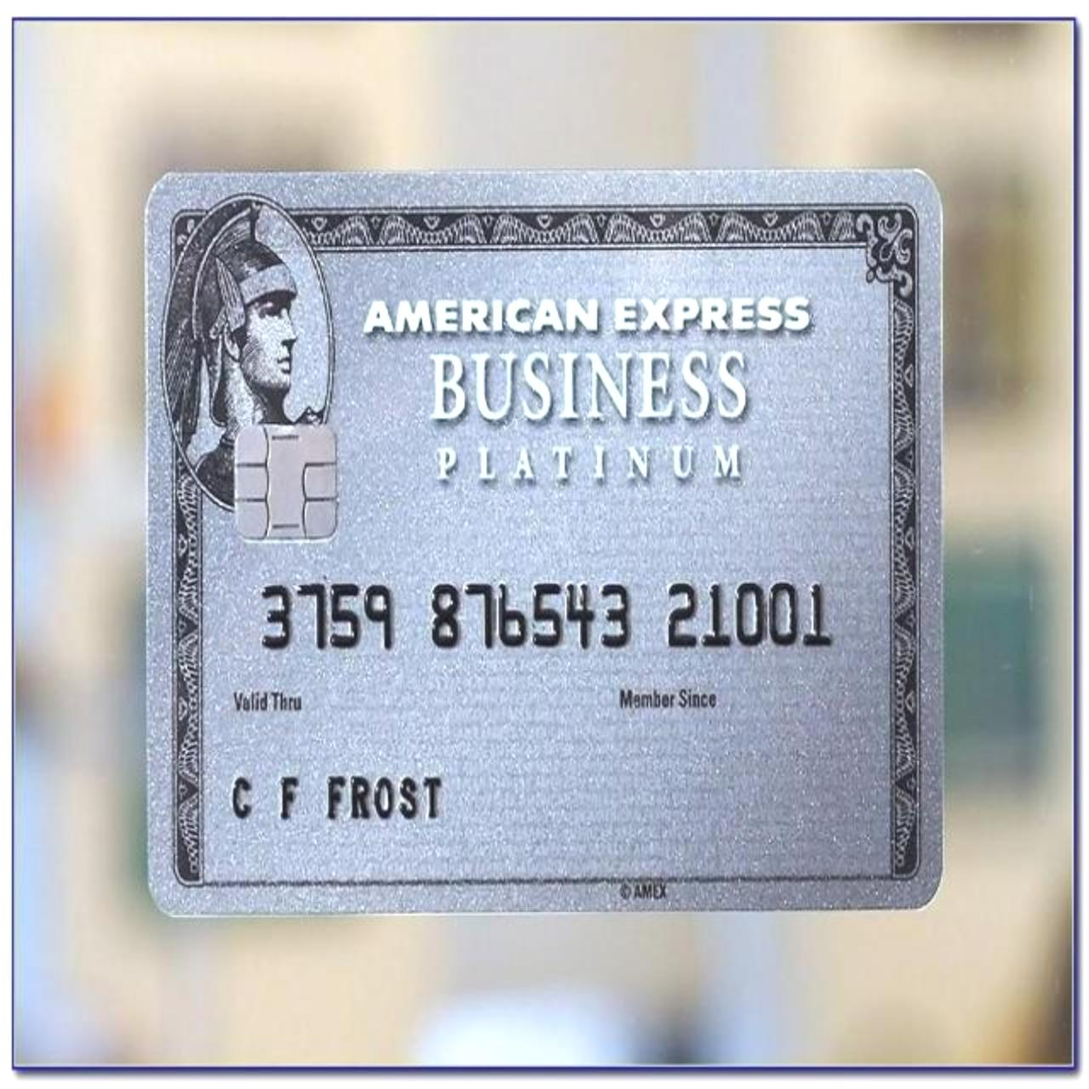credit_card: (157, 174, 939, 909)
